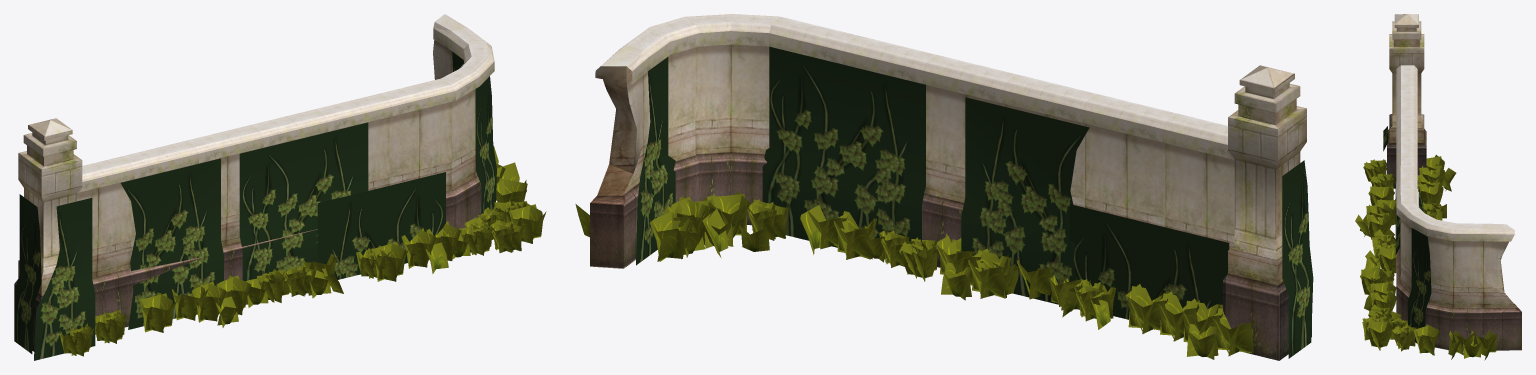
File: a_SWTcwall02.glb
3 renders of one model, left to right at view 1: azimuth 30°, elevation 25°; view 2: azimuth 150°, elevation 25°; view 3: azimuth 270°, elevation 25°, orthographic. The views are drawn at different scales.
Parts seen in each view (by area): view 1: a_SWTcwall02; view 2: a_SWTcwall02; view 3: a_SWTcwall02.
Part boxes in pixels (x1,y1,x2,y2): a_SWTcwall02: (14, 14, 546, 360); a_SWTcwall02: (575, 14, 1313, 360); a_SWTcwall02: (1355, 14, 1521, 360).
Bounding box in the file's own units: 10.47 × 4.16 × 3.78.
Materials: 3 (3 with a texture image).
